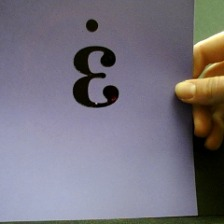violet3: (65, 16, 127, 111)
